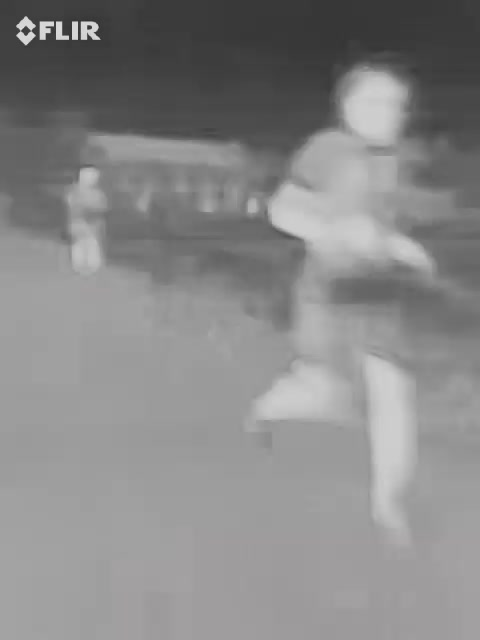head: (331, 60, 416, 150)
